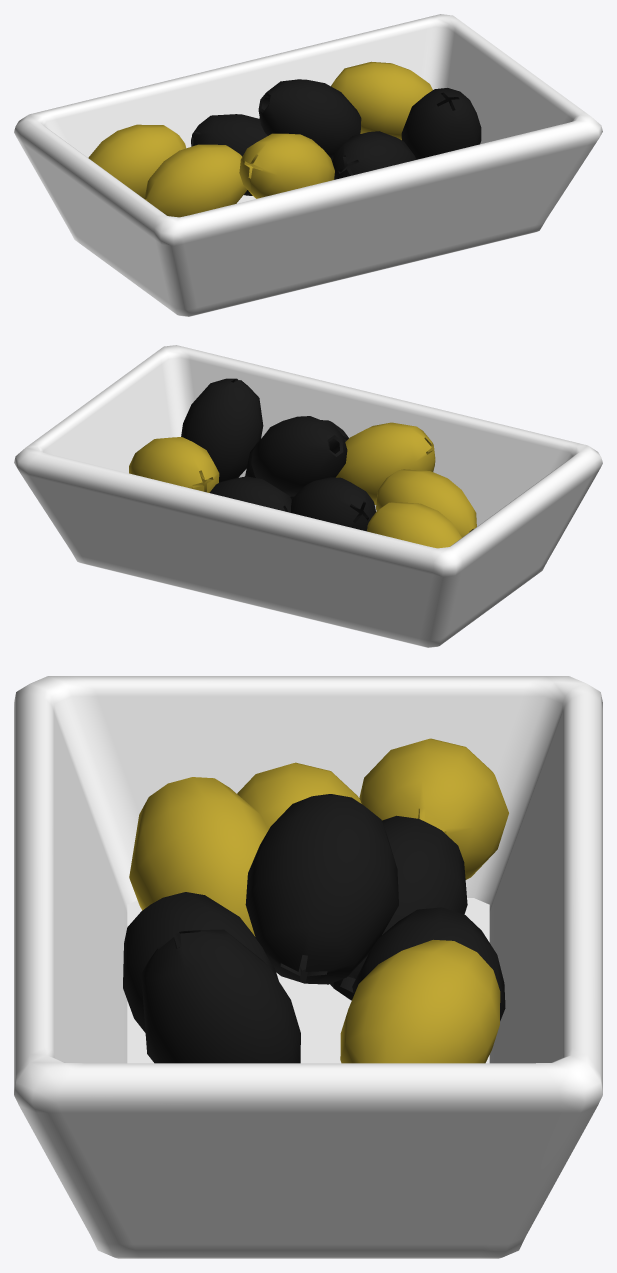
Rendered from Olives.FBX.
3 views of the same model, one above another, from view 1: azimuth 30°, elevation 25°; view 2: azimuth 150°, elevation 25°; view 3: azimuth 270°, elevation 25° (orthographic). The views are drawn at different scales.
Parts seen in each view (by area): view 1: olives; view 2: olives; view 3: olives.
Boxes of the visible parts, x1=… form: olives: x1=14, y1=14, x2=602, y2=316; olives: x1=14, y1=345, x2=602, y2=647; olives: x1=14, y1=676, x2=602, y2=1258.
Bounding box in the file's own units: 9.57 × 3.12 × 5.85.
Materials: 1 (1 with a texture image).
